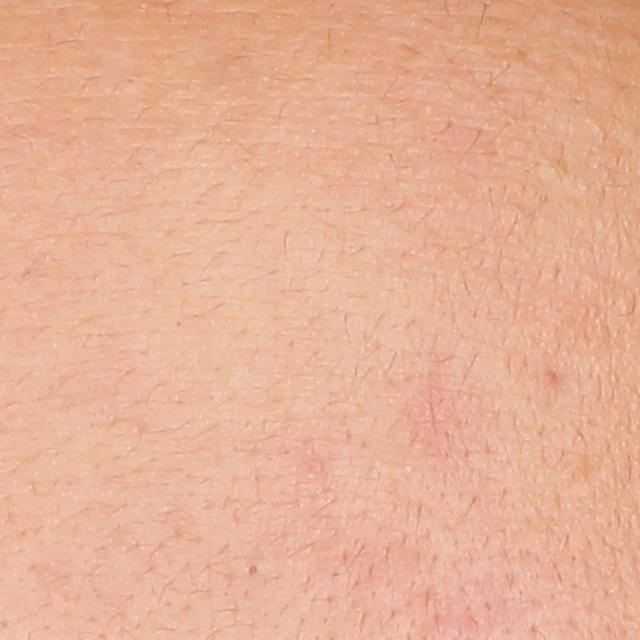comedo: (239, 558, 265, 580)
